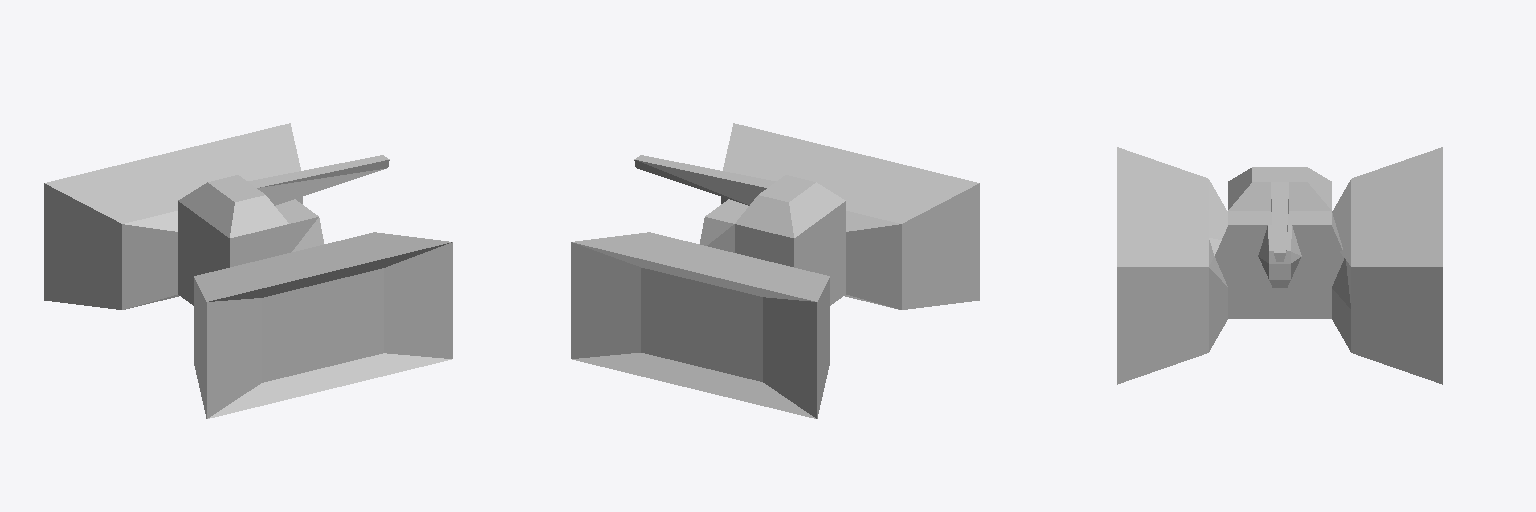
File: Enemy2.obj
3 renders of one model, left to right at view 1: azimuth 30°, elevation 25°; view 2: azimuth 150°, elevation 25°; view 3: azimuth 270°, elevation 25°, orthographic.
Parts seen in each view (by area): view 1: pCube2; view 2: pCube2; view 3: pCube2.
Boxes of the visible parts, x1=… form: pCube2: x1=44, y1=123, x2=452, y2=418; pCube2: x1=571, y1=123, x2=979, y2=418; pCube2: x1=1117, y1=147, x2=1442, y2=384.
Bounding box in the file's own units: 8.06 × 4.25 × 8.68.